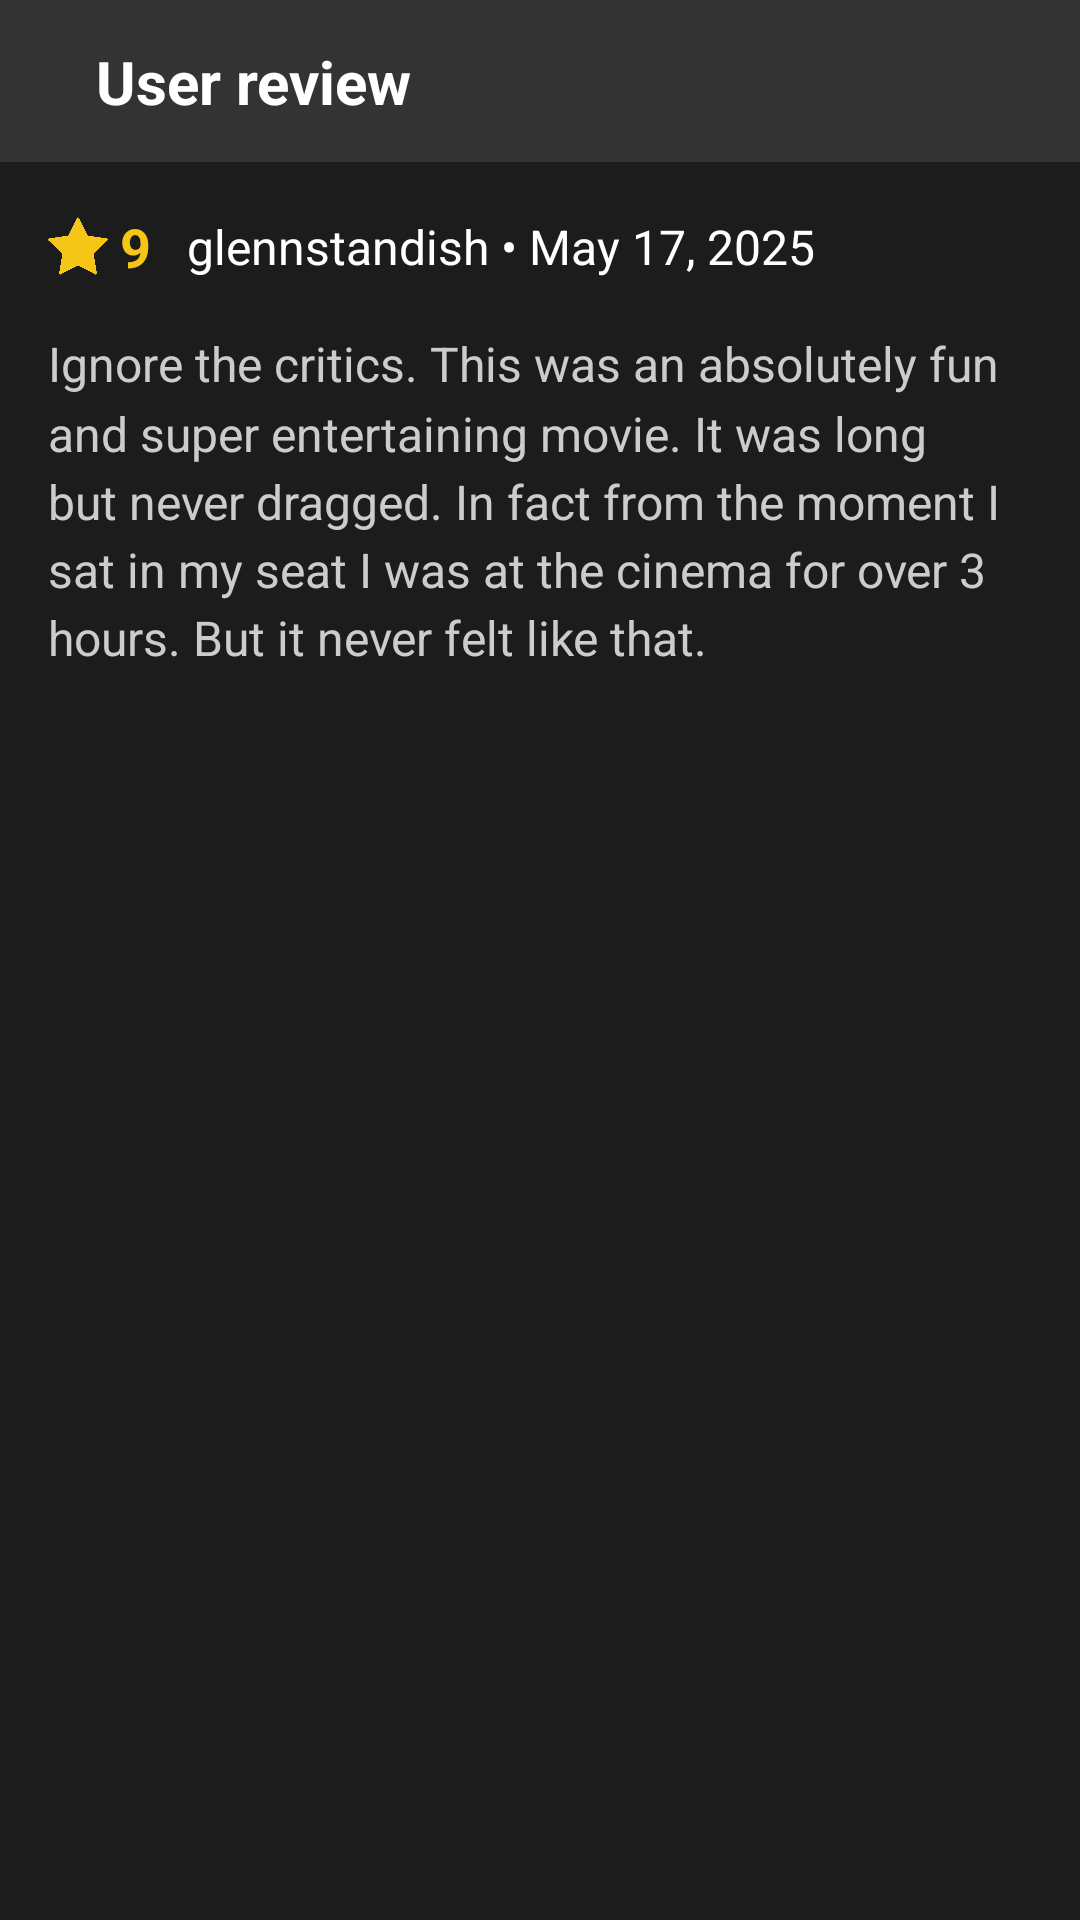

Locate icon controls on the screen. Image size 1080 × 1920, boxes as (x1, y1, x2, y2).
ratingstaricon: (48, 217, 108, 275)
